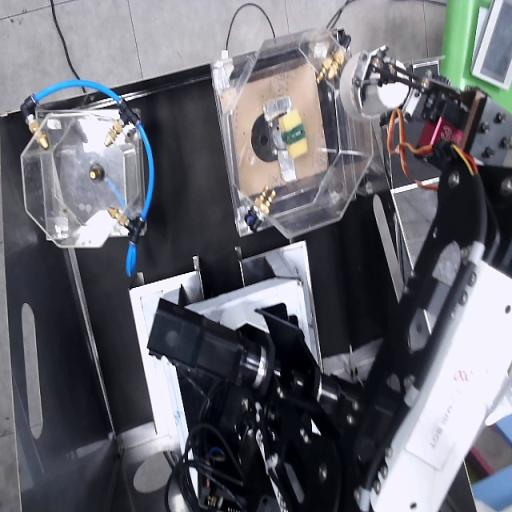cup in wash station: (339, 47, 410, 118)
